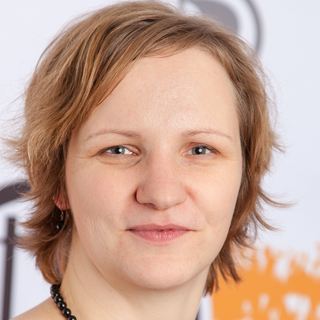eye: (93, 141, 143, 162), (176, 139, 221, 161)
